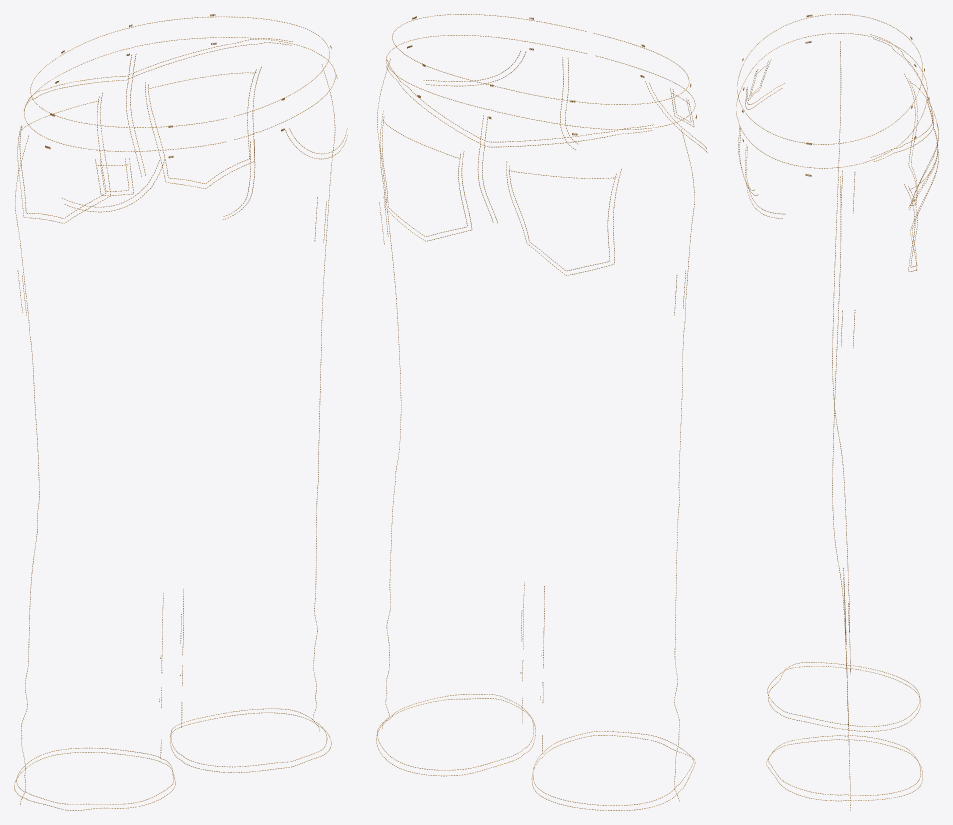
Rendered from 23_vaquero_recto_costuras.glb.
3 views of the same model, side by side, from view 1: azimuth 30°, elevation 25°; view 2: azimuth 150°, elevation 25°; view 3: azimuth 270°, elevation 25° (orthographic). The views are drawn at different scales.
Parts seen in each view (by area): view 1: stitch; view 2: stitch; view 3: stitch.
Boxes of the visible parts, x1,y1,x2,y2 form: stitch: (14,14,347,810); stitch: (376,14,707,810); stitch: (736,14,938,810).
Size of the model in its own units: 0.4411 by 0.9417 by 0.2566.
